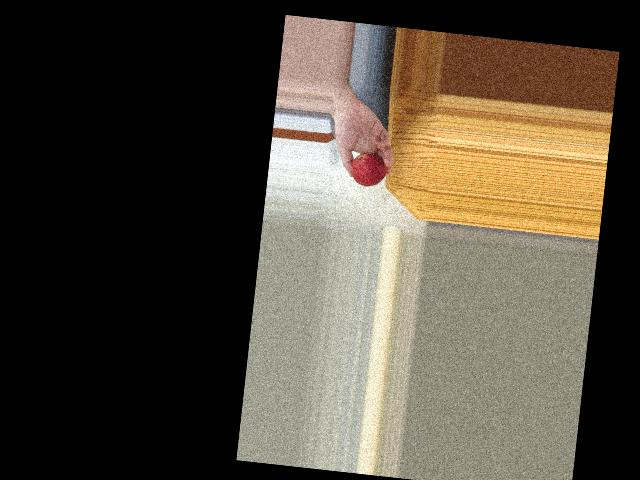apple: (347, 151, 389, 189)
